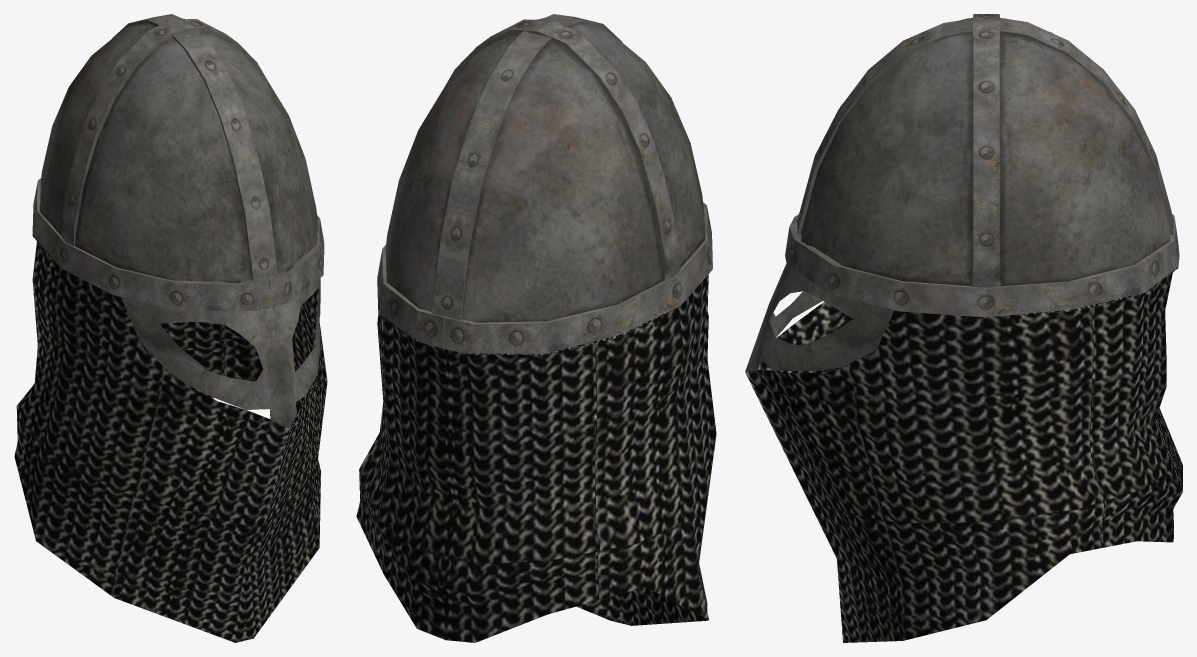
File: helm_anglo5.glb
3 views of the same model, side by side, from view 1: azimuth 30°, elevation 25°; view 2: azimuth 150°, elevation 25°; view 3: azimuth 270°, elevation 25° (orthographic). The views are drawn at different scales.
Visible parts, largest first — view 1: Sphere; view 2: Sphere; view 3: Sphere.
Boxes of the visible parts, x1,y1,x2,y2 form: Sphere: [14, 14, 327, 642]; Sphere: [356, 14, 716, 642]; Sphere: [745, 14, 1182, 642].
Size of the model in its own units: 0.24 by 0.4571 by 0.2941.
2 materials, 2 textured.
